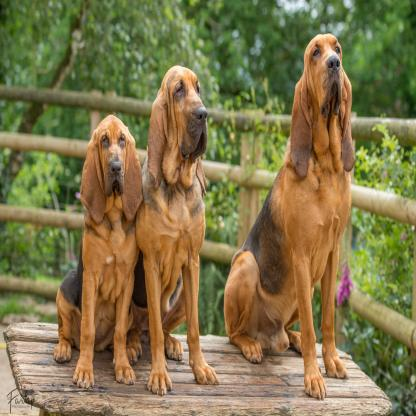Bloodhound: (231, 21, 366, 406), (138, 64, 221, 392), (60, 106, 140, 396)
